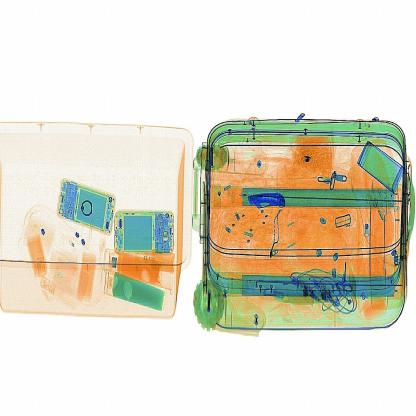knife: (244, 191, 292, 215)
